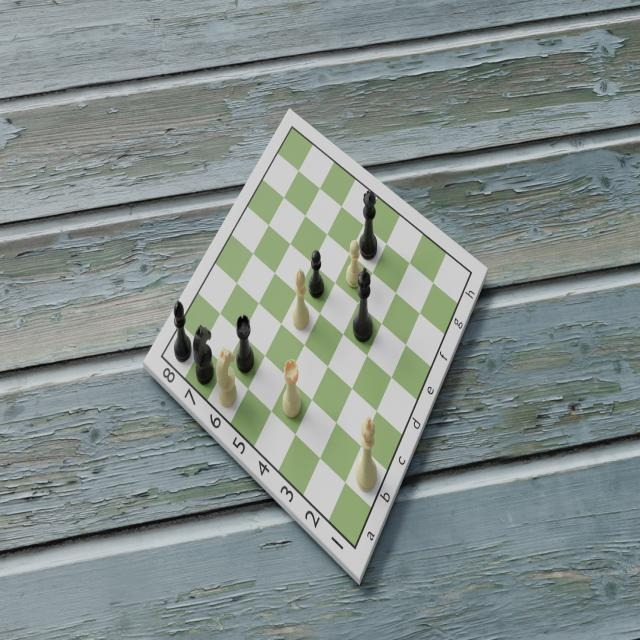black-bishop: (172, 299, 192, 363)
black-king: (352, 266, 375, 344)
black-knight: (192, 323, 216, 387)
black-pawn: (308, 246, 328, 302)
black-rook: (234, 314, 256, 378)
white-bishop: (290, 267, 312, 333)
white-king: (356, 413, 380, 498)
white-knight: (215, 347, 239, 408)
white-pawn: (343, 238, 364, 290)
white-rook: (281, 357, 303, 422)
